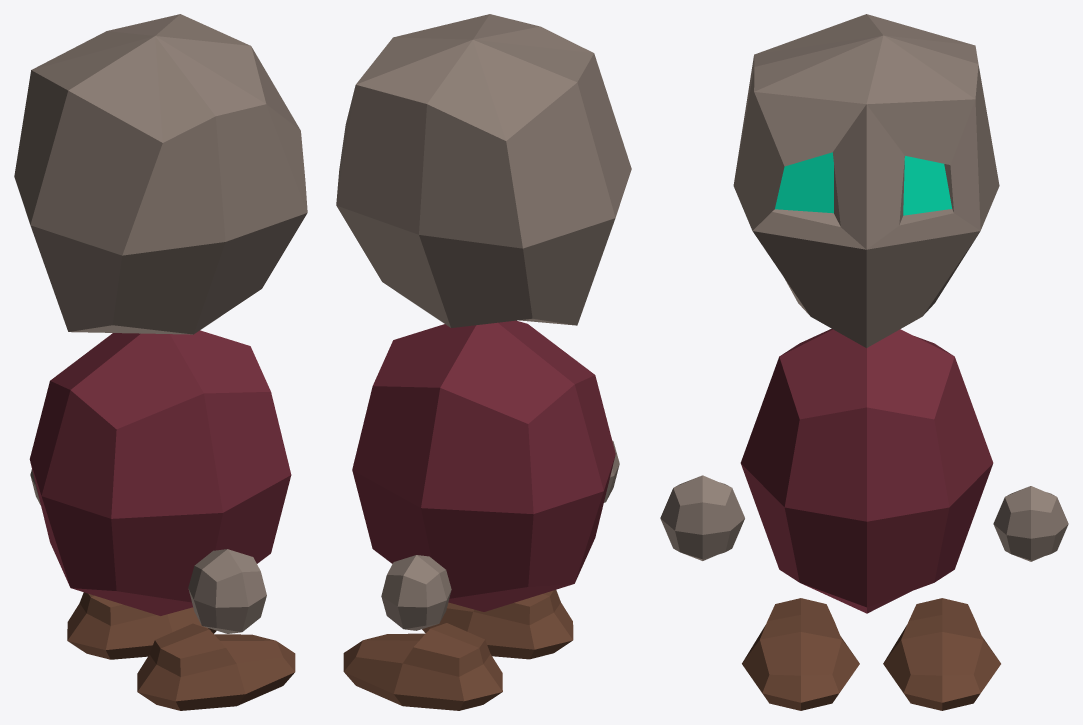
The model's file is char.fbx.
3 renders of one model, left to right at view 1: azimuth 30°, elevation 25°; view 2: azimuth 150°, elevation 25°; view 3: azimuth 270°, elevation 25°, orthographic.
Visible parts, largest first — view 1: Cube, Cube.003, Cube.004, Cube.001; view 2: Cube, Cube.004, Cube.003, Cube.002; view 3: Cube, Cube.003, Cube.004, Cube.001, Cube.002.
Boxes of the visible parts, x1,y1,x2,y2 form: Cube: (14,14,307,615); Cube.003: (137,623,295,710); Cube.004: (67,592,216,659); Cube.001: (188,549,266,633); Cube: (336,14,631,611); Cube.004: (343,623,502,710); Cube.003: (422,590,573,659); Cube.002: (381,555,451,630); Cube: (733,14,999,613); Cube.003: (742,598,859,710); Cube.004: (883,598,1000,710); Cube.001: (660,475,744,560); Cube.002: (993,486,1068,561).
Bounding box in the file's own units: 136 × 321 × 184.
